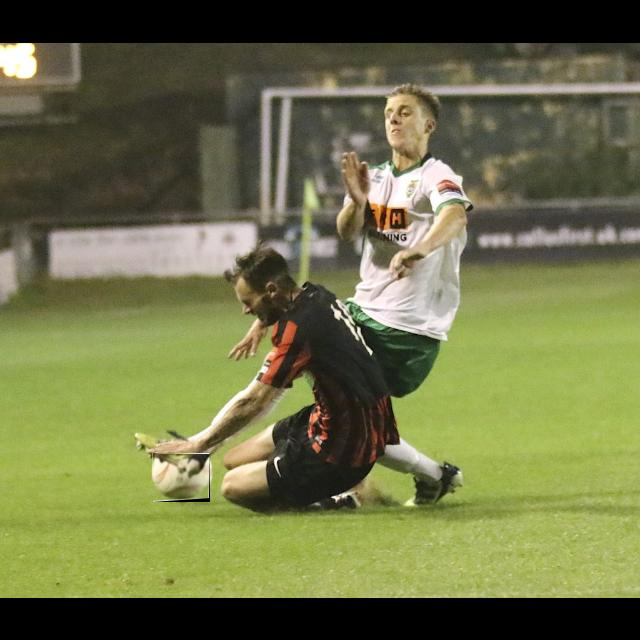Football: (152, 454, 210, 502)
